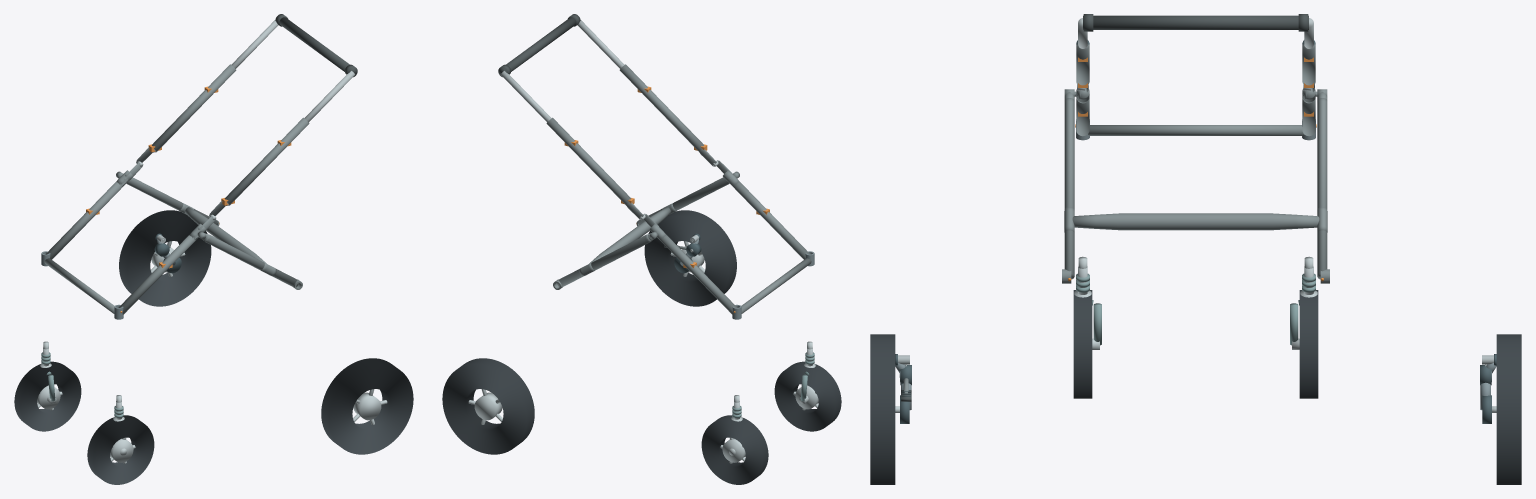
File: w650_state4.glb
3 views of the same model, side by side, from view 1: azimuth 30°, elevation 25°; view 2: azimuth 150°, elevation 25°; view 3: azimuth 270°, elevation 25° (orthographic). The views are drawn at different scales.
Visible parts, largest first — view 1: RL_tire.014, RR_tire.014, FL_tire.014, FR_tire.014, main_upper_-1.013, main_upper_1.013, main_lower_1.013, main_lower_-1.013, round_handle.014, V46_rear_leg_-1.012, V46_rearbar.012, front_fixed_round_tube.013 (+3 smaller); view 2: RR_tire.014, RL_tire.014, FR_tire.014, FL_tire.014, main_upper_1.013, main_upper_-1.013, main_lower_-1.013, main_lower_1.013, round_handle.014, V46_rear_leg_1.012, V46_rearbar.012, front_fixed_round_tube.013 (+3 smaller); view 3: V46_rearbar.012, RL_tire.014, RR_tire.014, round_handle.014, front_fixed_round_tube.013, FL_tire.014, FR_tire.014, V46_rear_leg_1.012, V46_rear_leg_-1.012.
Part boxes in pixels (x1,y1,x2,y2): RL_tire.014: [321, 358, 413, 454]; RR_tire.014: [119, 210, 211, 306]; FL_tire.014: [87, 415, 154, 484]; FR_tire.014: [14, 361, 81, 431]; main_upper_-1.013: [224, 117, 309, 205]; main_upper_1.013: [152, 64, 236, 151]; main_lower_1.013: [45, 179, 127, 259]; main_lower_-1.013: [118, 235, 197, 314]; round_handle.014: [279, 17, 356, 75]; V46_rear_leg_-1.012: [204, 234, 298, 286]; V46_rearbar.012: [184, 207, 266, 263]; front_fixed_round_tube.013: [44, 258, 114, 313]; RR_tire.014: [442, 358, 534, 454]; RL_tire.014: [644, 210, 736, 306]; FR_tire.014: [701, 415, 768, 484]; FL_tire.014: [774, 361, 841, 431]; main_upper_1.013: [546, 117, 631, 205]; main_upper_-1.013: [619, 64, 703, 151]; main_lower_-1.013: [728, 179, 810, 259]; main_lower_1.013: [658, 235, 737, 314]; round_handle.014: [499, 17, 576, 75]; V46_rear_leg_1.012: [557, 234, 651, 286]; V46_rearbar.012: [589, 207, 671, 263]; front_fixed_round_tube.013: [741, 258, 811, 313]; V46_rearbar.012: [1072, 213, 1319, 230]; RL_tire.014: [870, 334, 895, 484]; RR_tire.014: [1496, 334, 1521, 484]; round_handle.014: [1083, 15, 1308, 29]; front_fixed_round_tube.013: [1088, 125, 1303, 135]; FL_tire.014: [1073, 290, 1092, 398]; FR_tire.014: [1299, 290, 1318, 398]; V46_rear_leg_1.012: [1317, 98, 1327, 279]; V46_rear_leg_-1.012: [1064, 98, 1074, 279].
Bounding box in the file's own units: 1.14 × 1.46 × 1.56.
